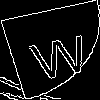W: (25, 25, 94, 82)
